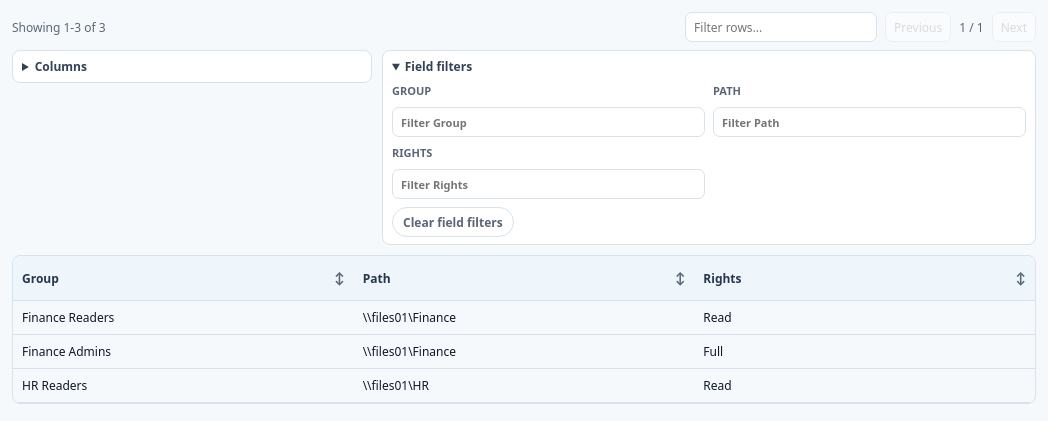
Test case: VirtualTable › supports negative global and field filters
The image size is (1048, 421).
Type "-HR" into the search field named "Filter Permissioned groups rows".
click(781, 27); type("-HR")  # box [685,12,877,42]
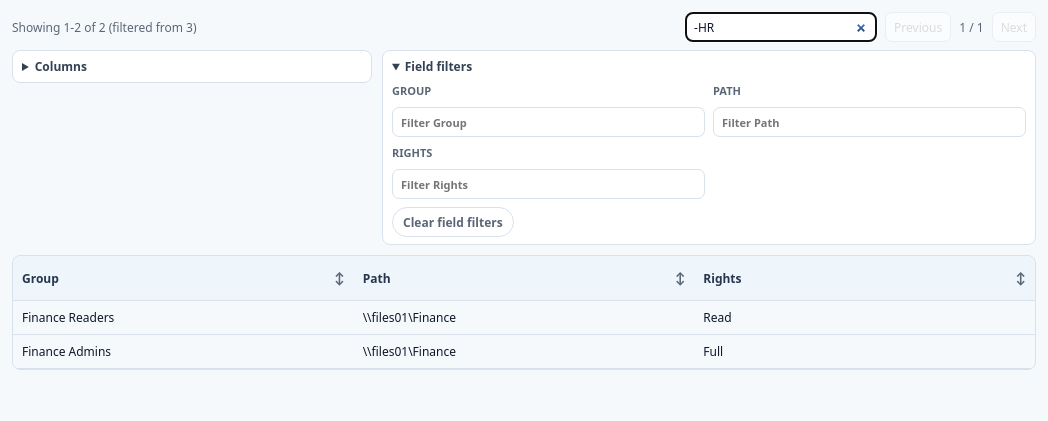
Expected: the text "Finance Readers" is shown, [13,300,354,334]
Result: the text "HR Readers" is gone
Type "-Full" into the search field named "Filter Permissioned groups by Rights".
click(548, 184); type("-Full")  # box [392,169,705,199]
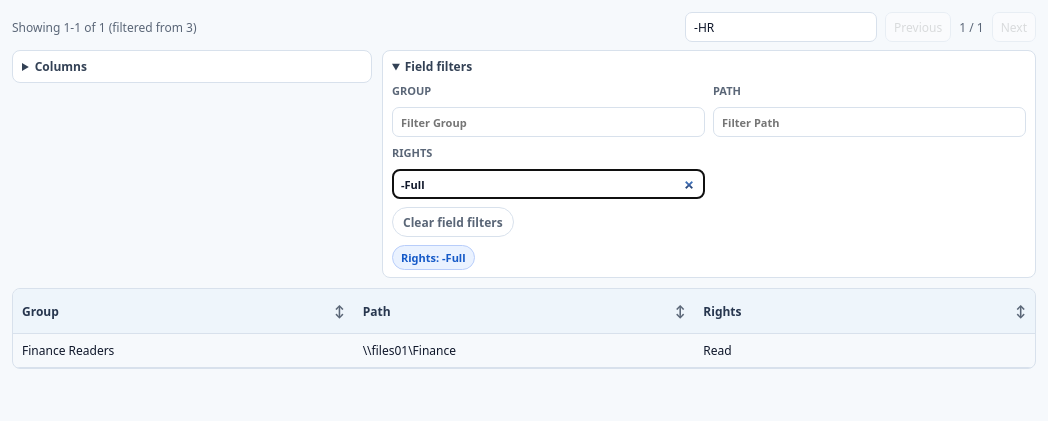
Expected: the text "Finance Readers" is shown, [13,334,354,368]
Result: the text "Showing 1-1 of 1 (filtered from 3)" is shown at [12,18,197,36]
Result: the text "Finance Admins" is gone
